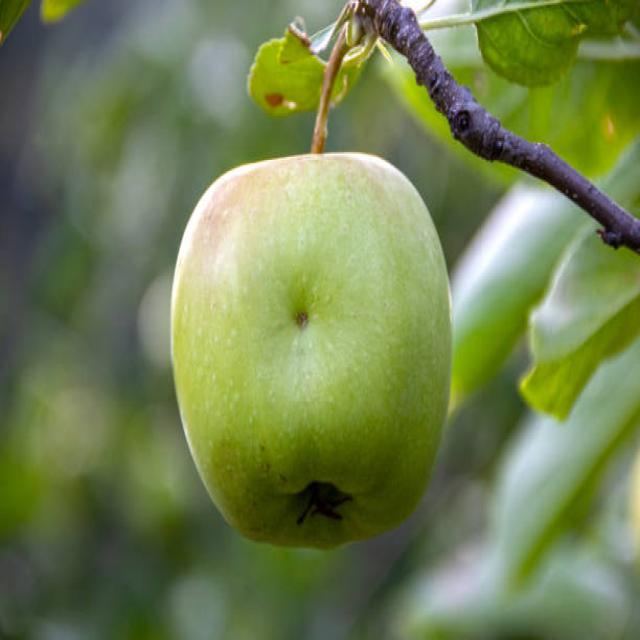Unripe: (169, 148, 455, 555)
